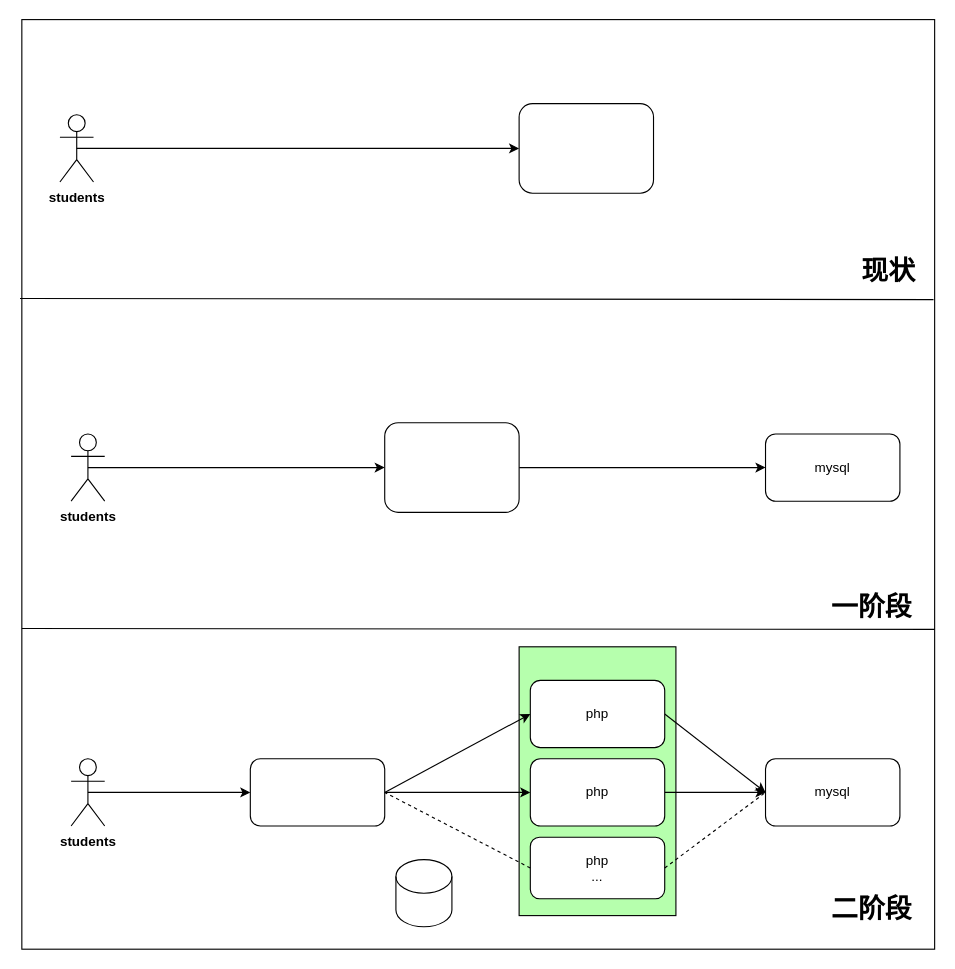
Image size: 955x969. Some labels were removed from this diagram. The shapes that lost their labels are listed below. From the top down, each one's box as (x1, y1, x2, y2) in pixels, then its label:
(518, 102, 654, 193): nginx mysql redis php java
(384, 422, 519, 512): nginx redis php java
(249, 758, 385, 826): nginx redis java
(395, 858, 452, 927): NFS
